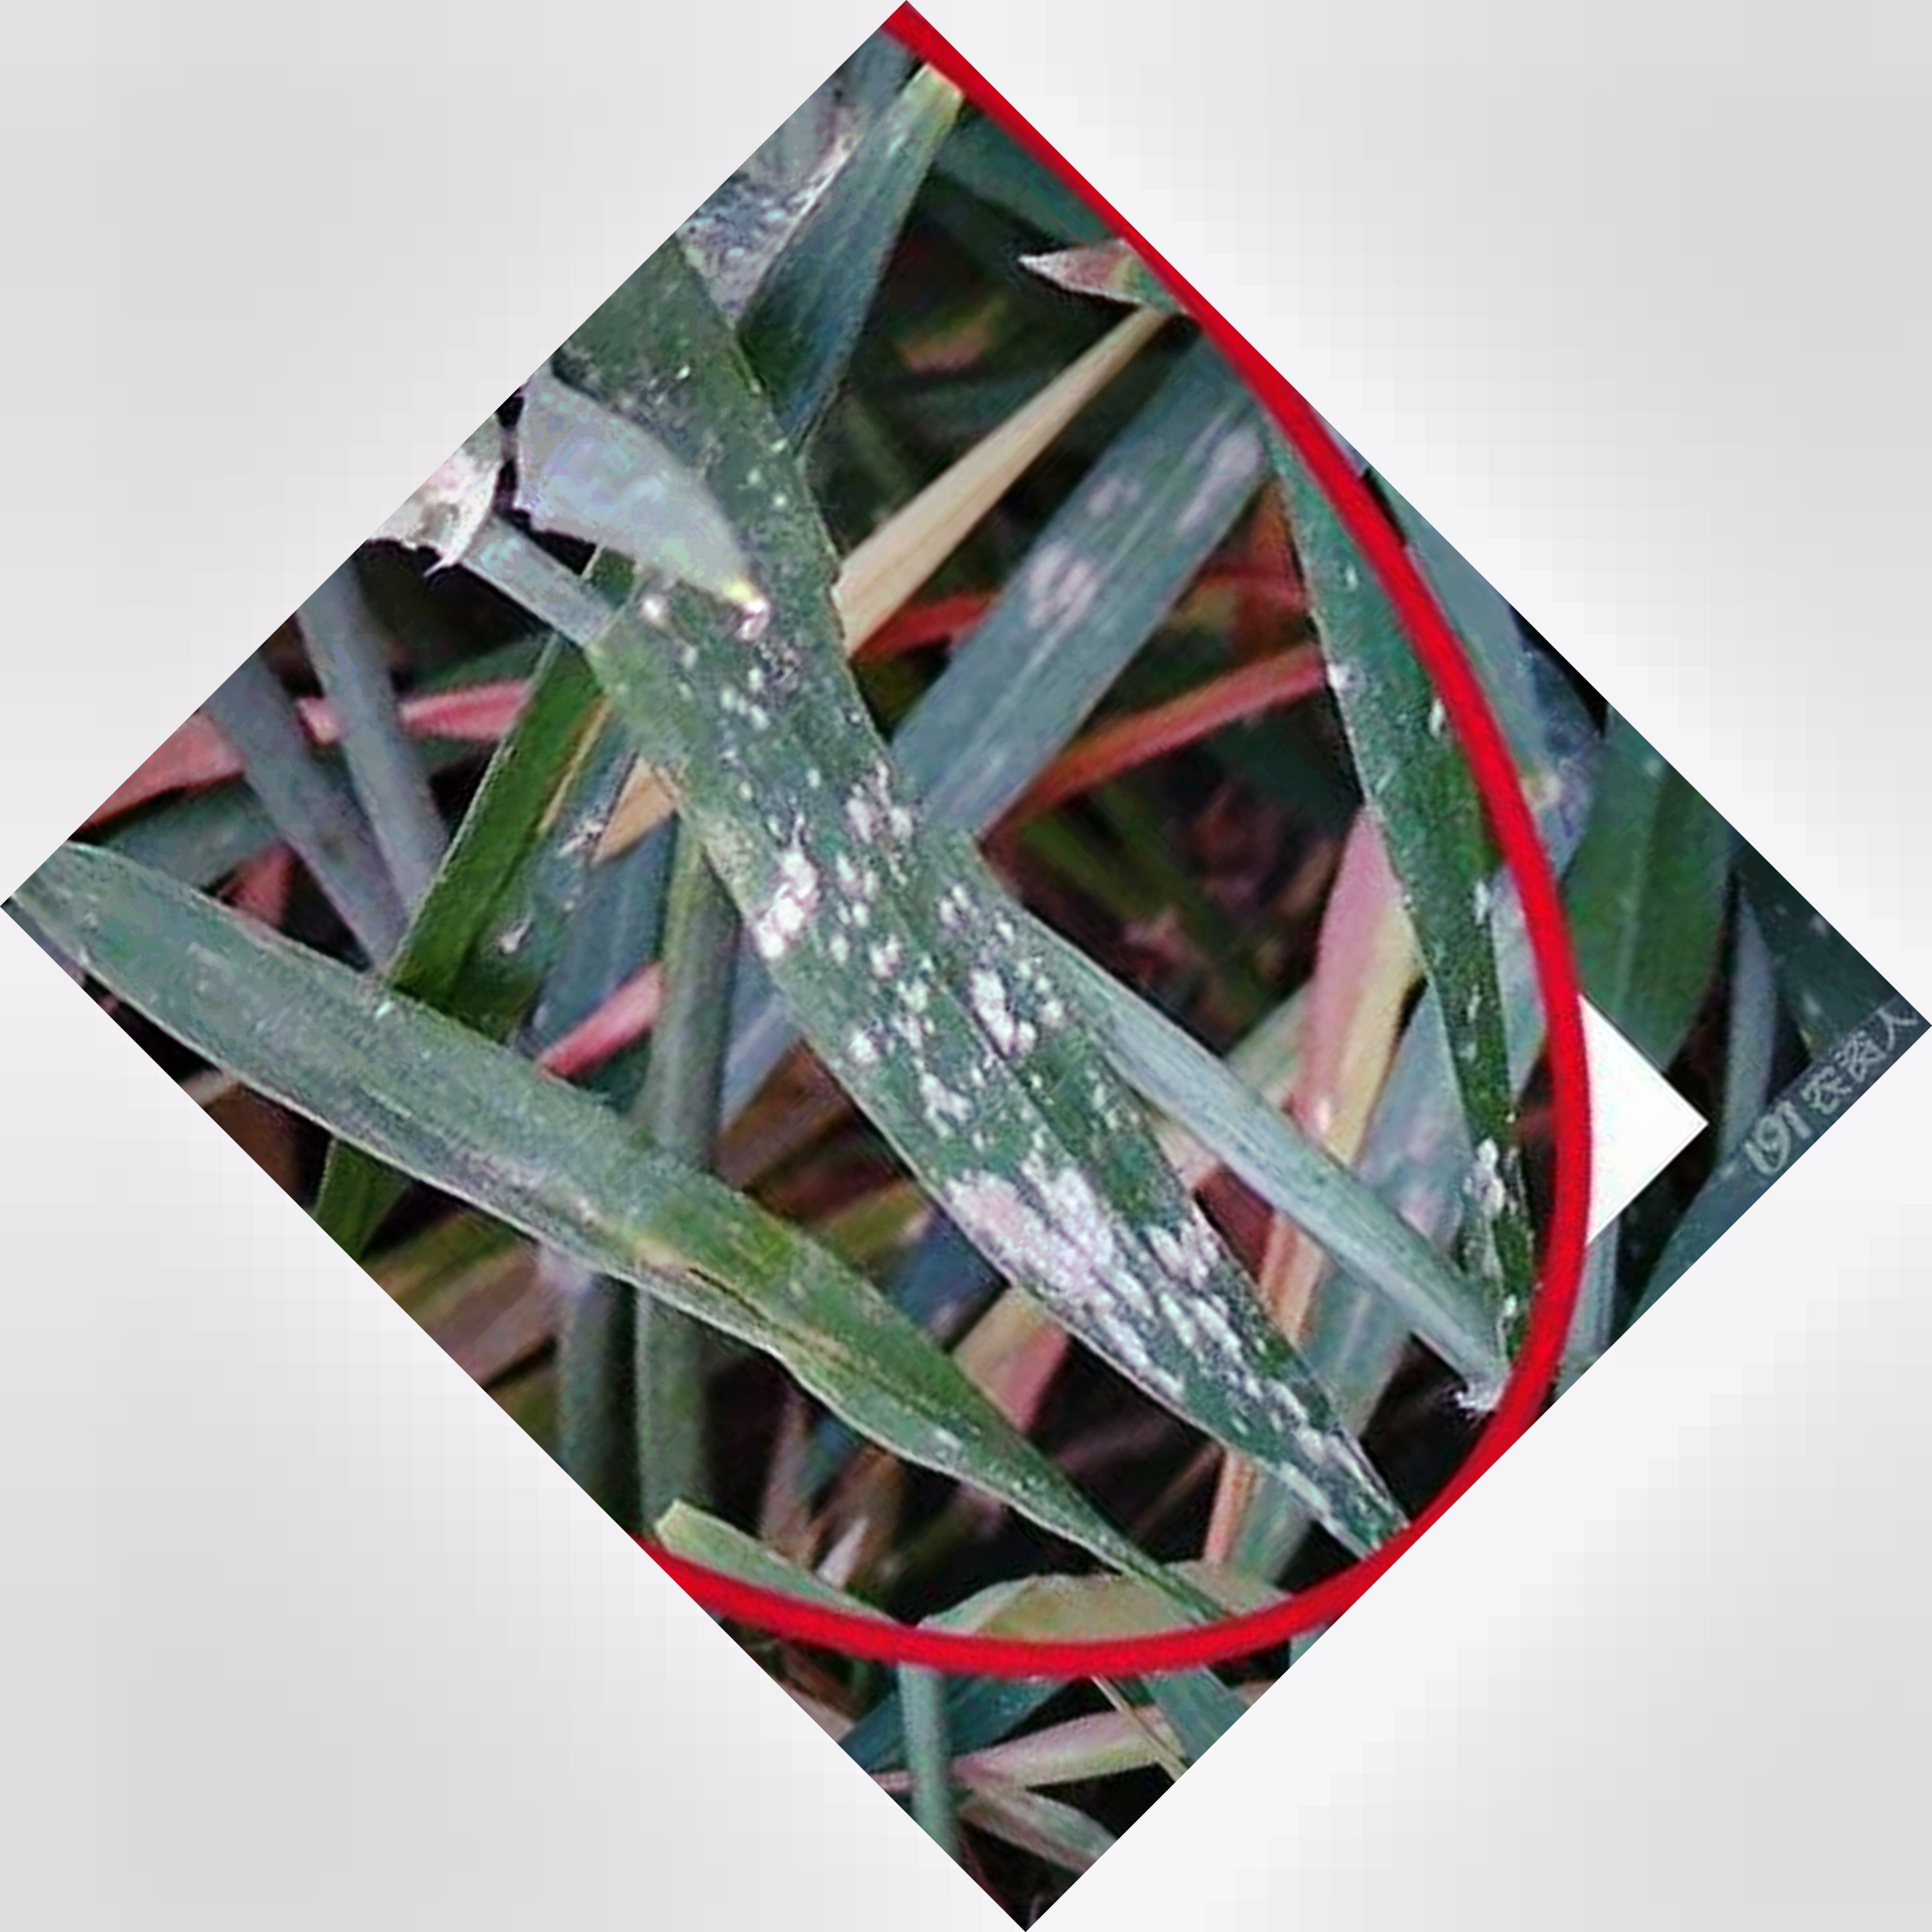Powdery Mildew: (741, 741, 1369, 1506)
